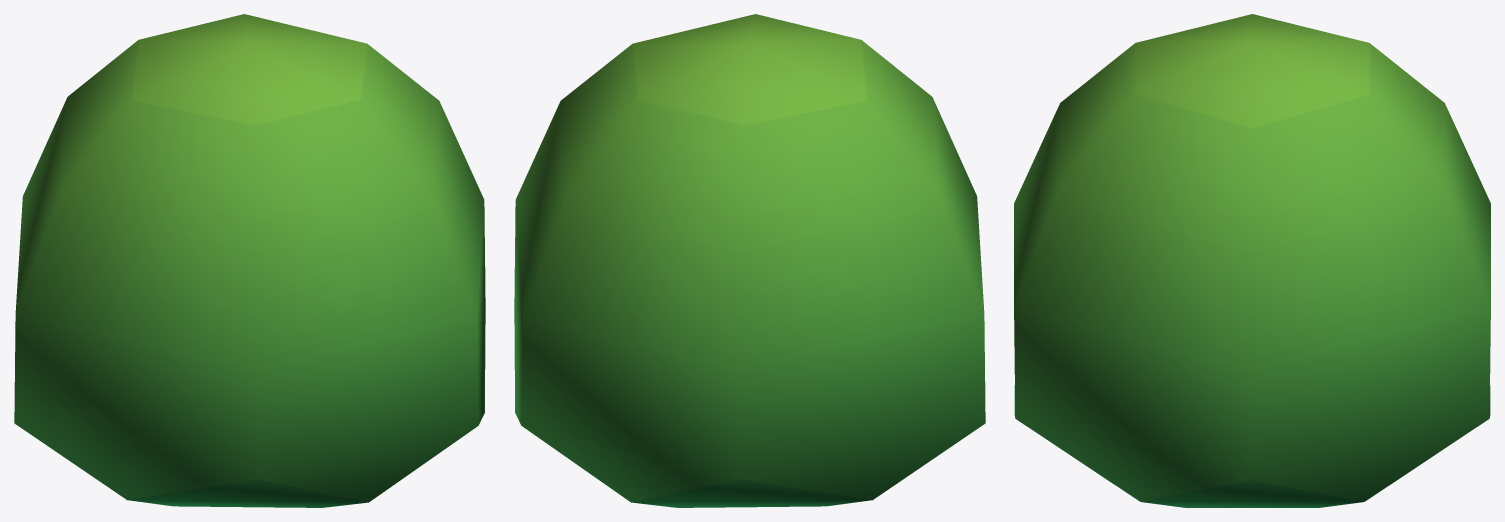
Rendered from Bush_1_A_Color1.glb.
3 renders of one model, left to right at view 1: azimuth 30°, elevation 25°; view 2: azimuth 150°, elevation 25°; view 3: azimuth 270°, elevation 25°, orthographic.
Visible parts, largest first — view 1: Bush_1_A_Color1; view 2: Bush_1_A_Color1; view 3: Bush_1_A_Color1.
Boxes of the visible parts, x1,y1,x2,y2 form: Bush_1_A_Color1: [14, 14, 485, 507]; Bush_1_A_Color1: [514, 14, 985, 507]; Bush_1_A_Color1: [1014, 14, 1490, 507].
Size of the model in its own units: 0.2672 by 0.2267 by 0.2341.
Materials: 1 (1 with a texture image).
